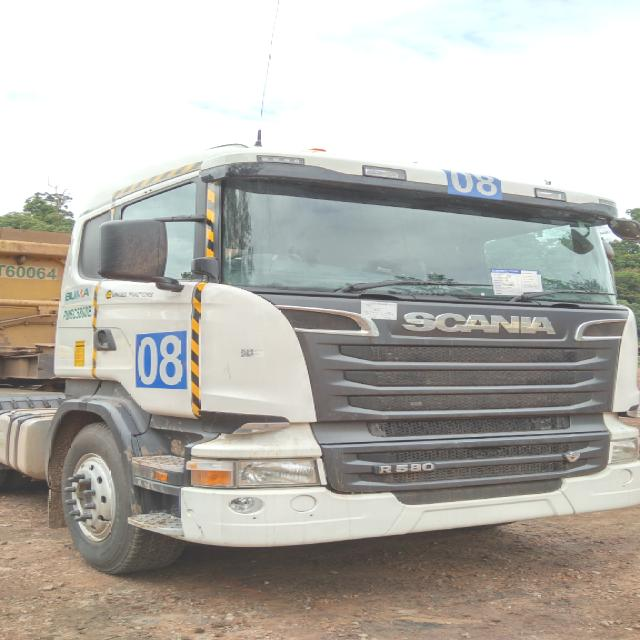truck: (1, 141, 640, 579)
